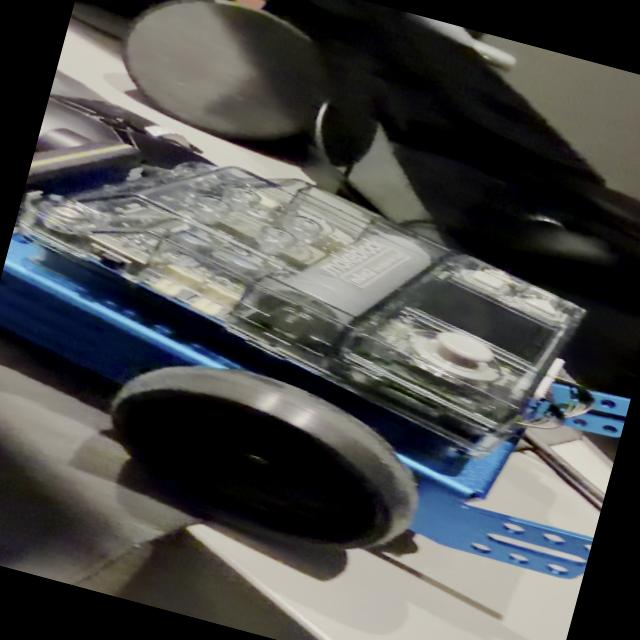mbot-detection: (0, 86, 640, 627)
